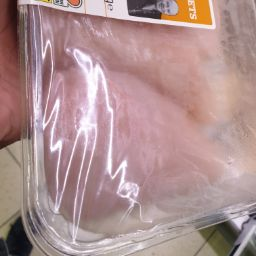Chicken breast: (51, 61, 243, 220)
